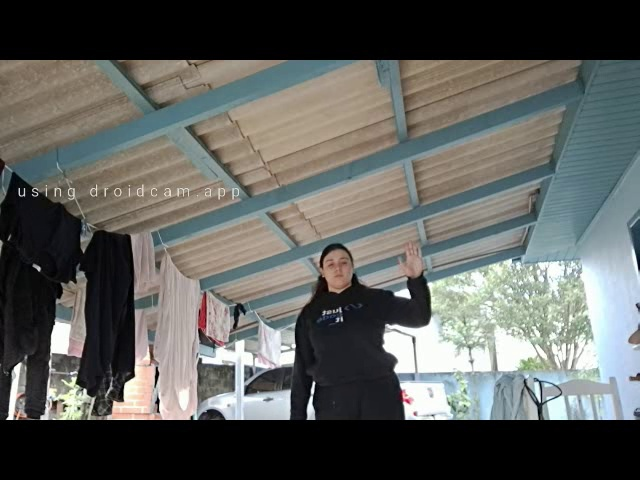MULHER: (300, 236, 377, 292)
